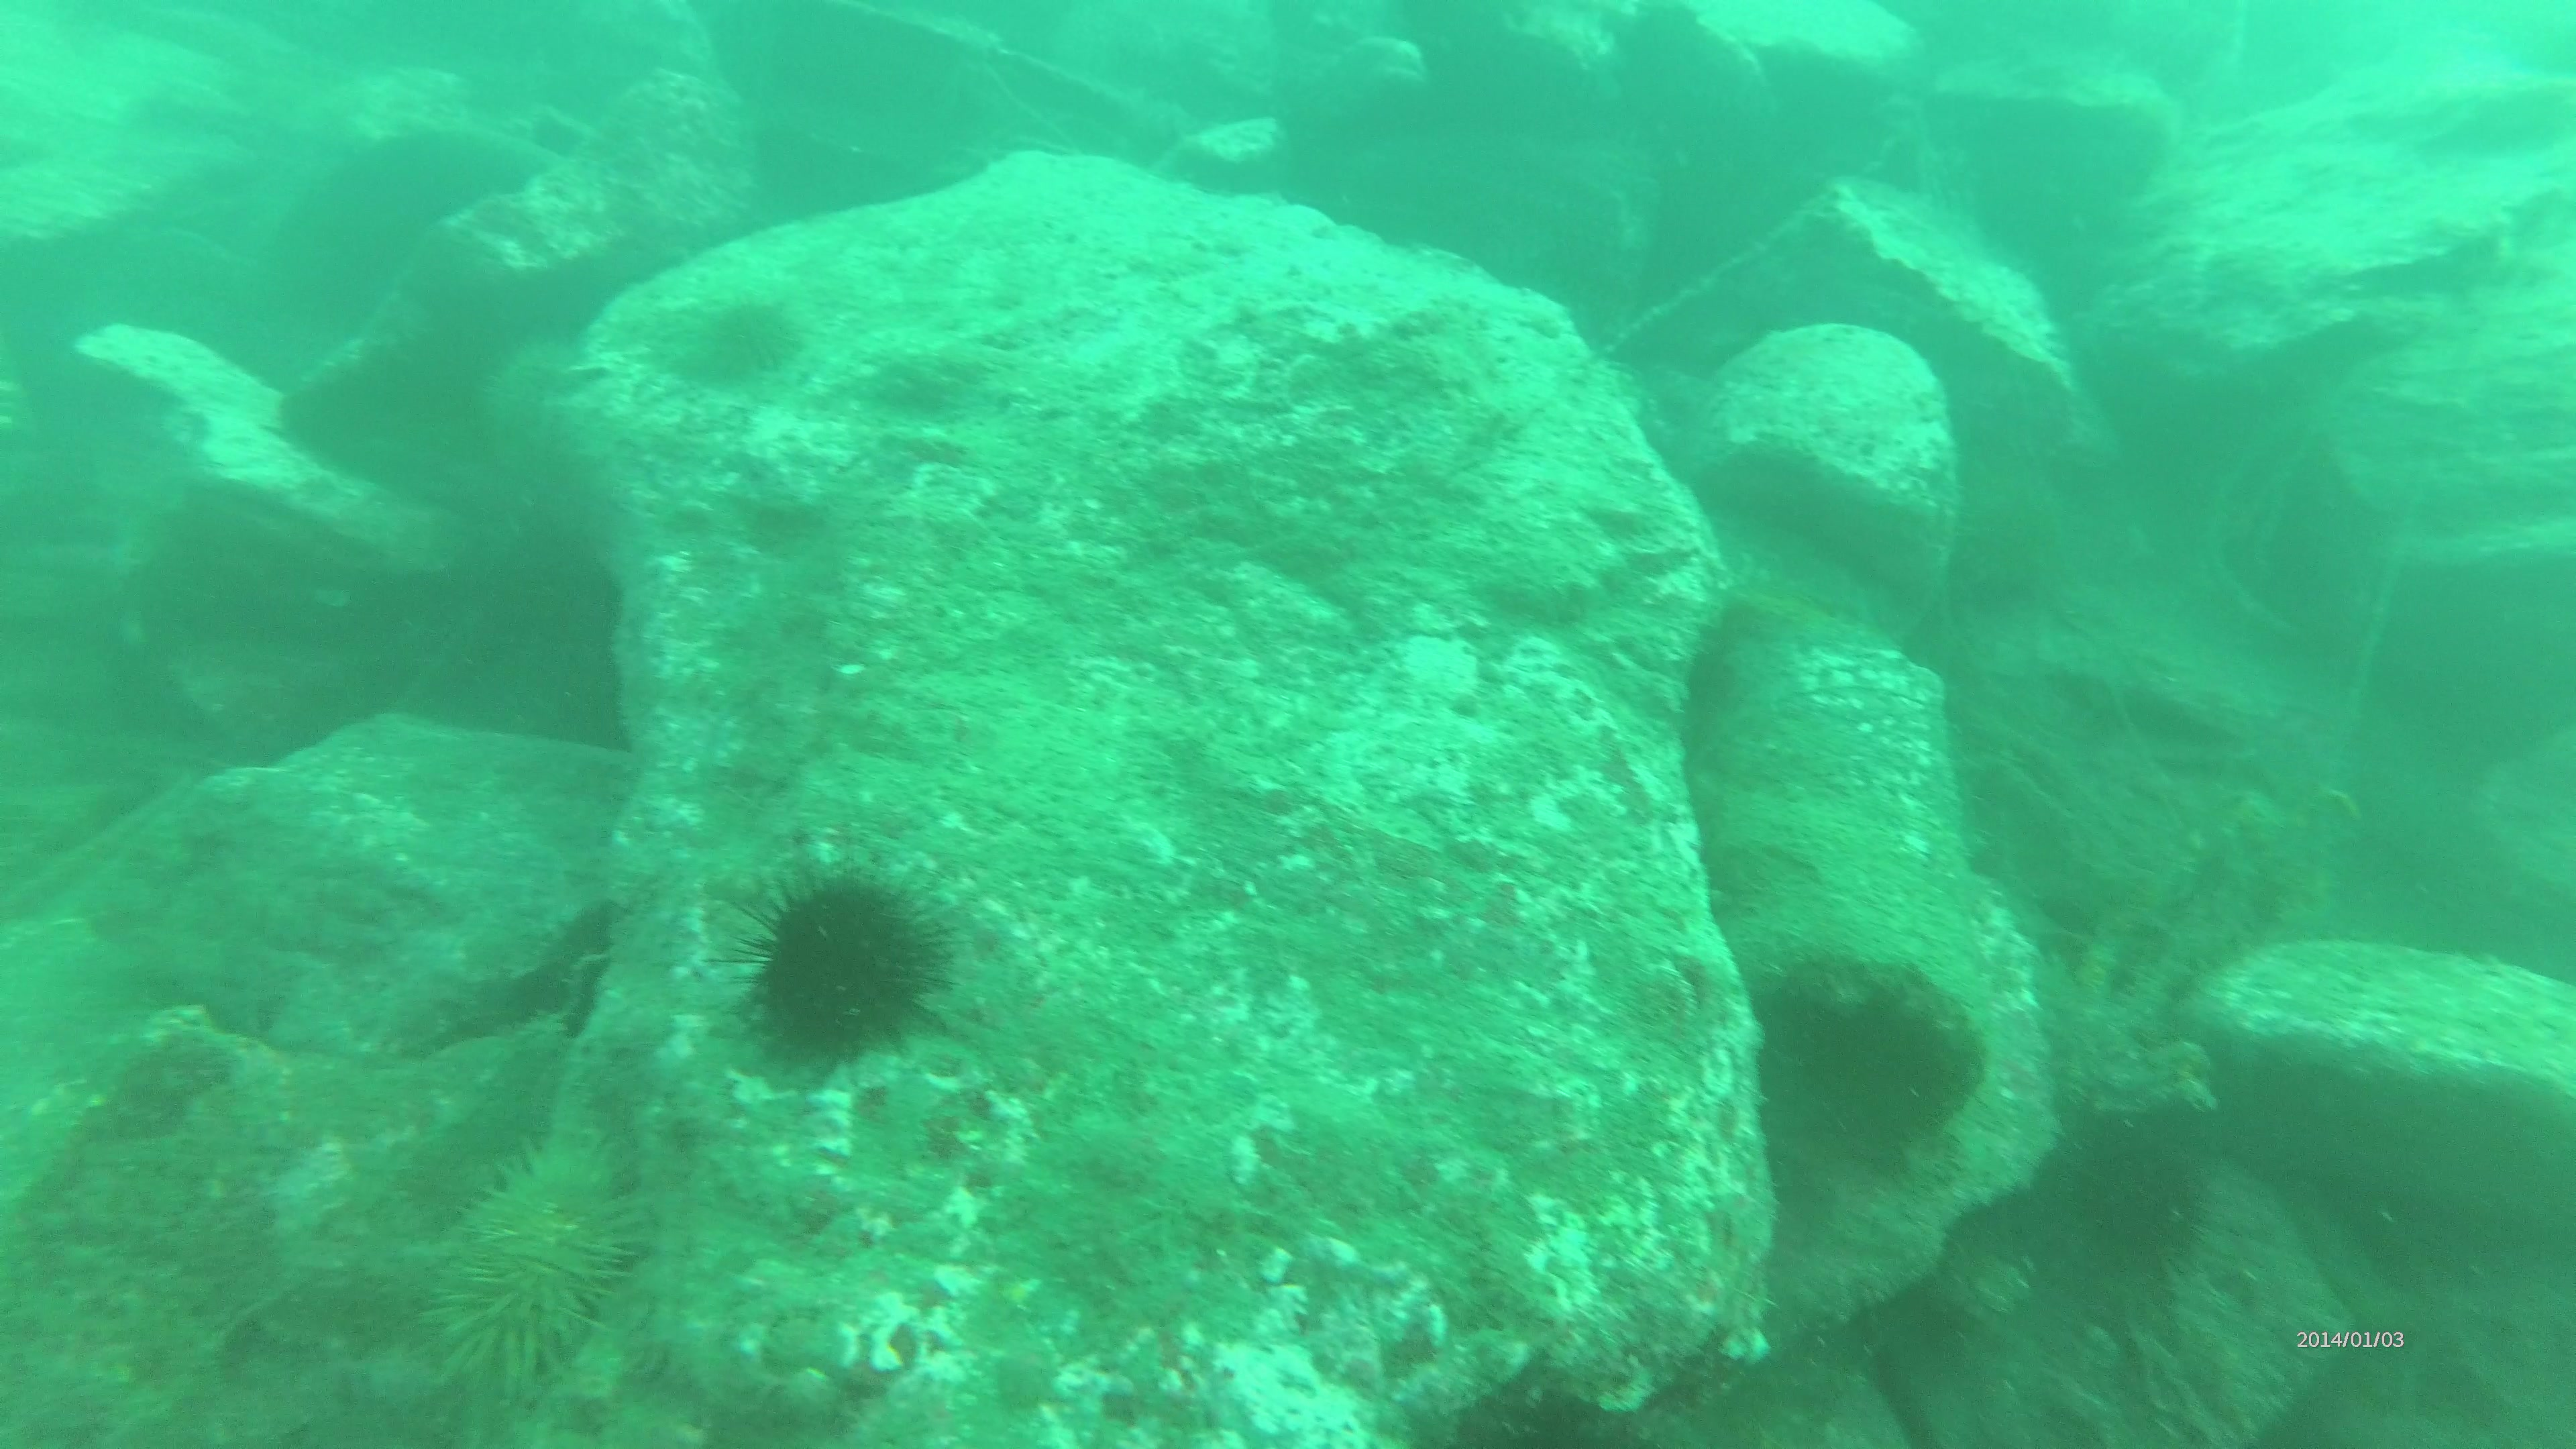echinus: (395, 1143, 655, 1394), (724, 840, 964, 1077), (2056, 1115, 2213, 1270), (1960, 428, 2079, 616), (690, 301, 798, 389)
